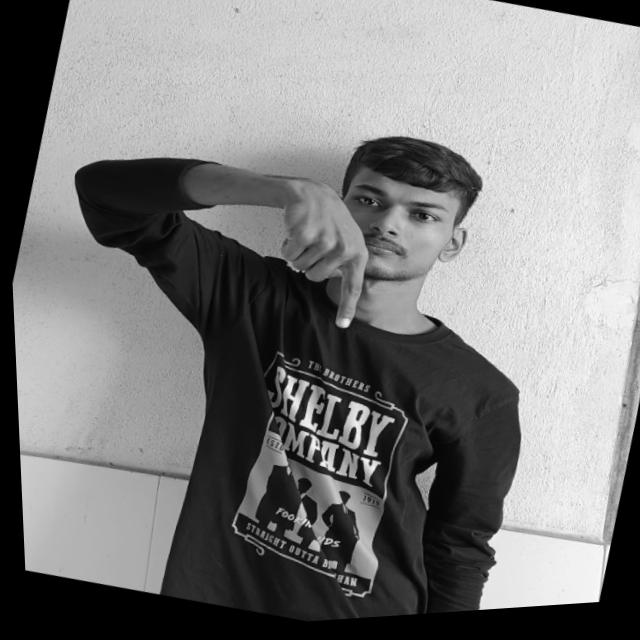Now: (240, 178, 385, 345)
